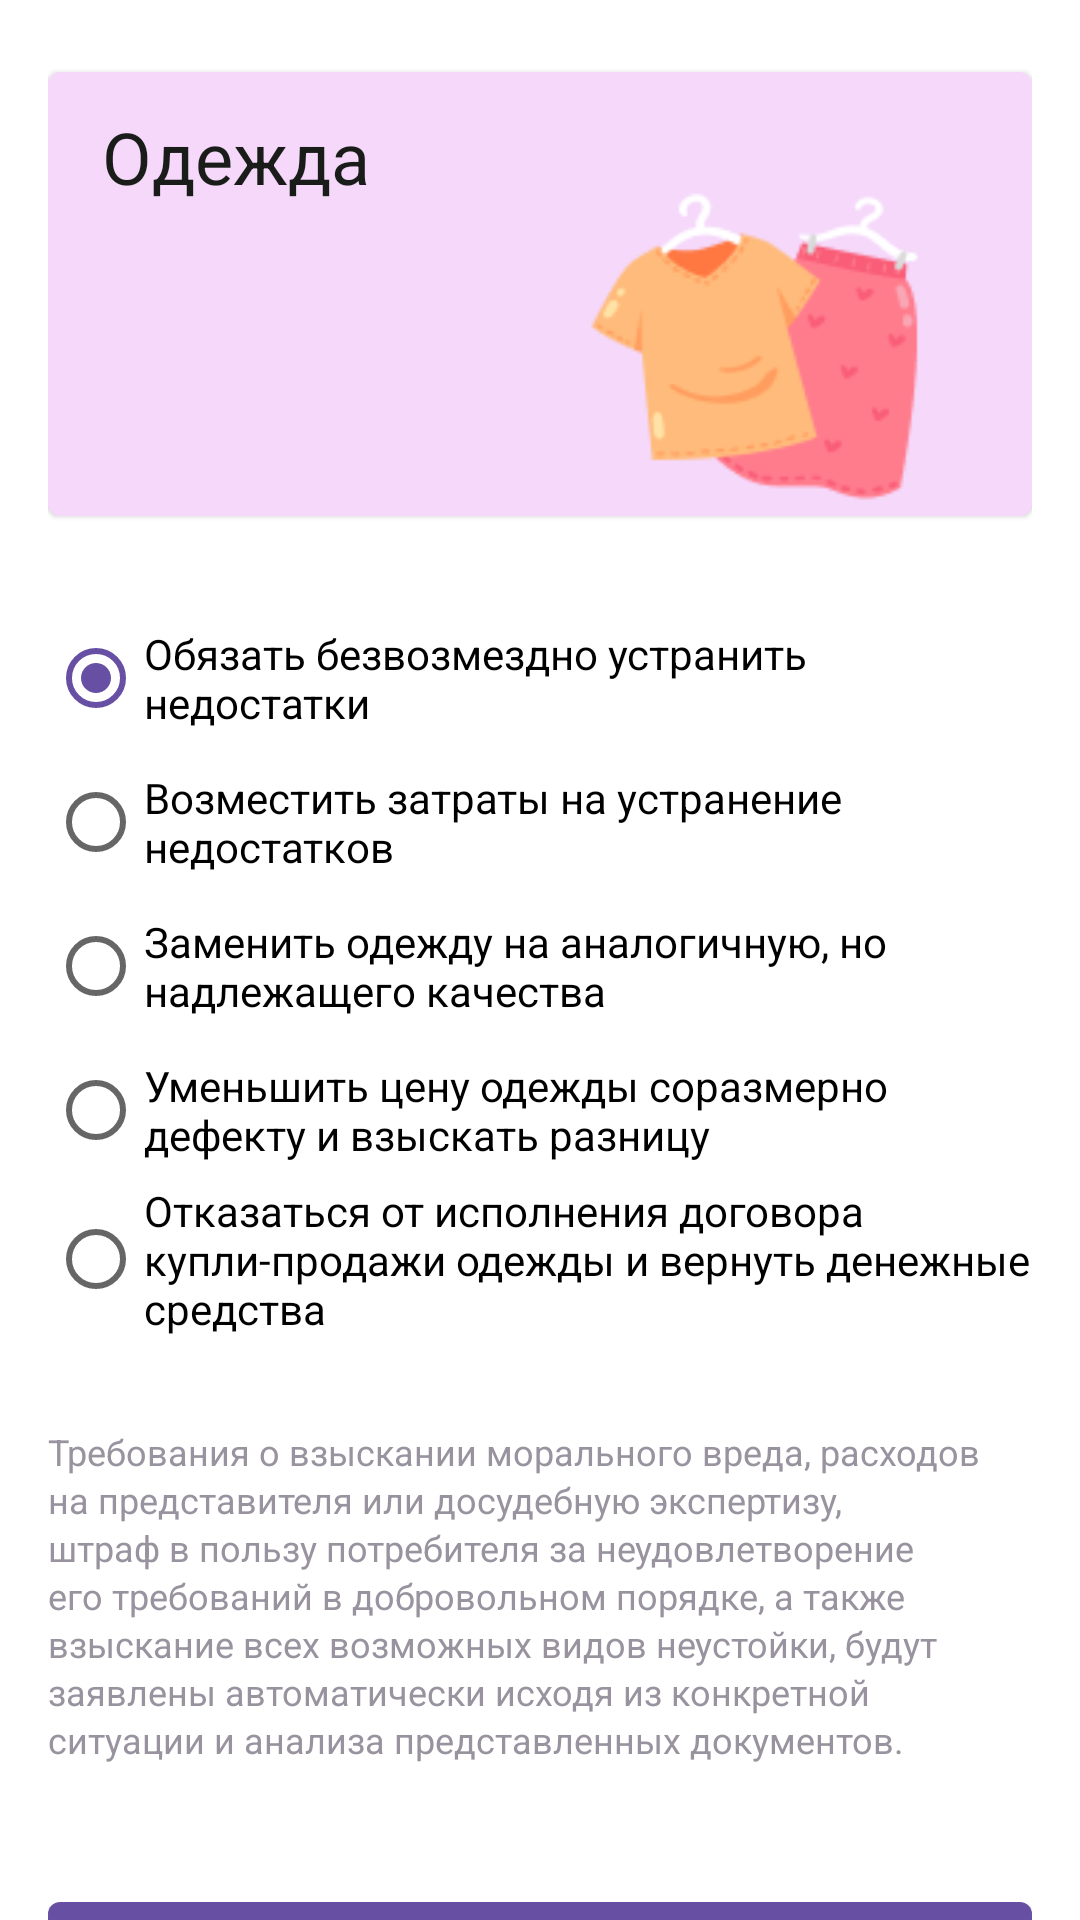

Screen size 1080 × 1920. Icon name, then its box in pixels as (x1, y1, x2, y2):
situation clothing: (591, 195, 918, 499)
